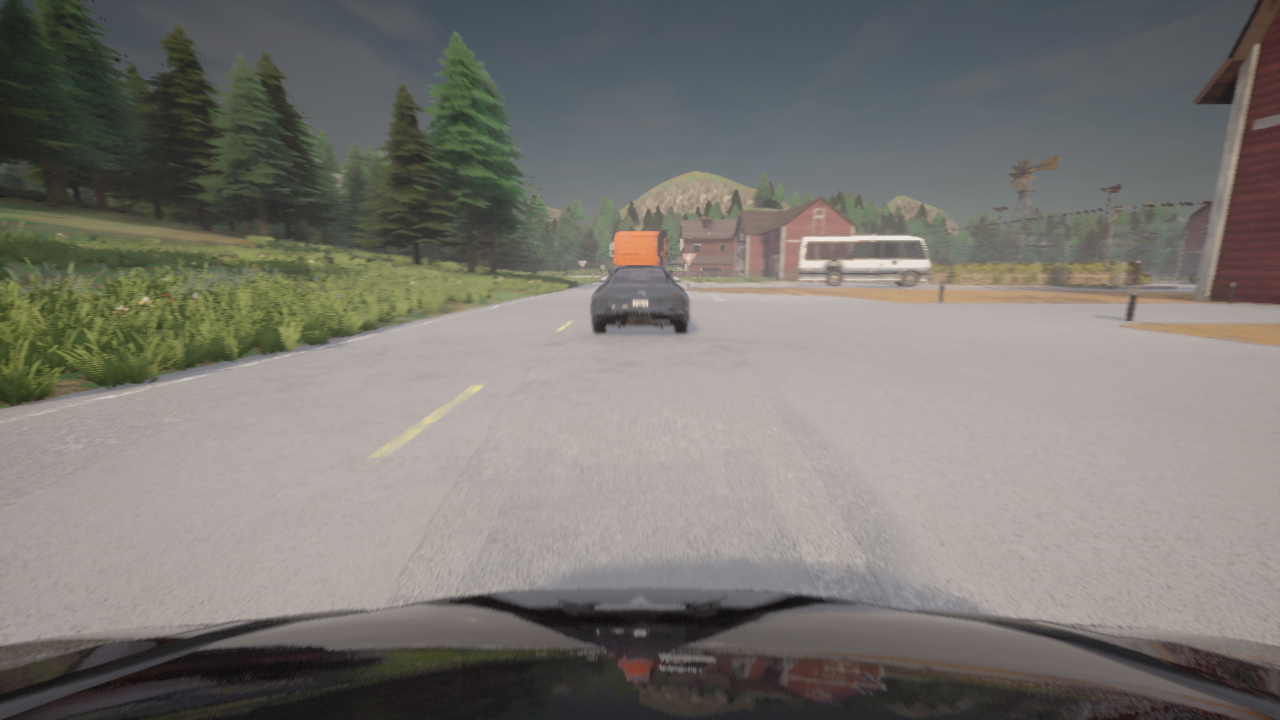cyclist: (0, 588, 1279, 719), (797, 235, 936, 287), (591, 266, 688, 333), (608, 229, 671, 277), (1188, 271, 1199, 283)
pedestrian: (949, 264, 954, 283)
